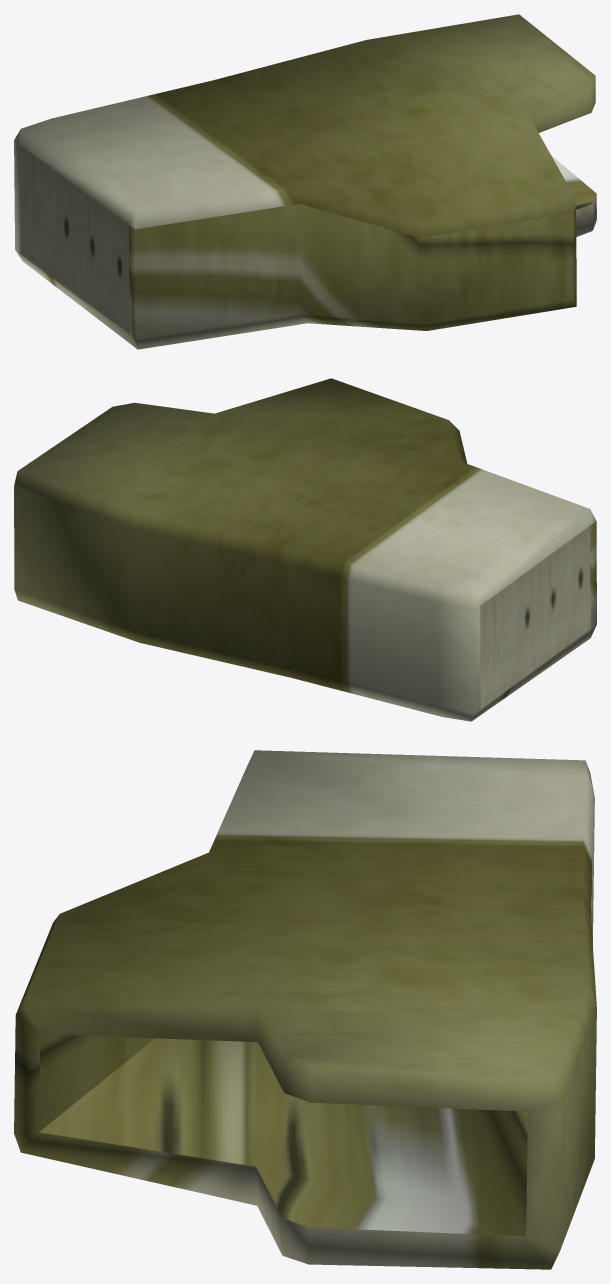
The model's file is HolsterSingle_Ground.fbx.
3 views of the same model, one above another, from view 1: azimuth 30°, elevation 25°; view 2: azimuth 150°, elevation 25°; view 3: azimuth 270°, elevation 25° (orthographic). The views are drawn at different scales.
Visible parts, largest first — view 1: HolsterSingle_Ground; view 2: HolsterSingle_Ground; view 3: HolsterSingle_Ground.
Part boxes in pixels (x1,y1,x2,y2): HolsterSingle_Ground: [14, 14, 596, 349]; HolsterSingle_Ground: [14, 378, 596, 721]; HolsterSingle_Ground: [14, 750, 596, 1269].
Size of the model in its own units: 0.784 by 0.2193 by 0.5791.
